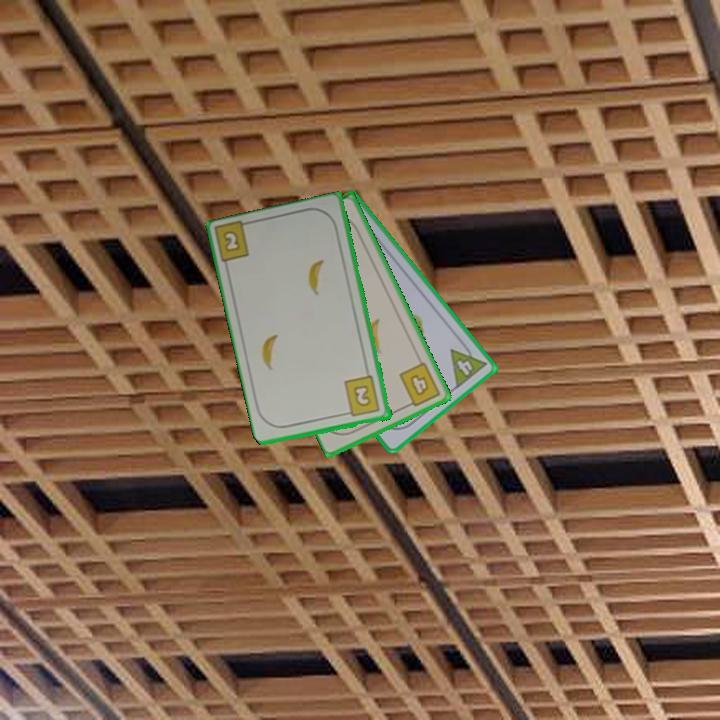2b: (341, 373, 383, 420), (220, 227, 243, 255)
4b: (396, 358, 444, 411)
4p: (447, 337, 490, 391)
